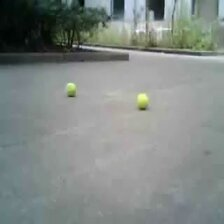tennis: (136, 94, 148, 108), (64, 83, 76, 95)
